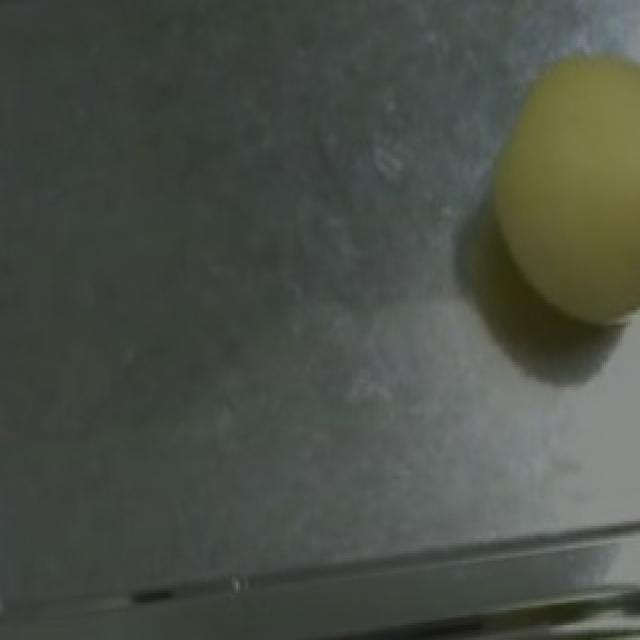Fruit: (446, 28, 640, 342)
